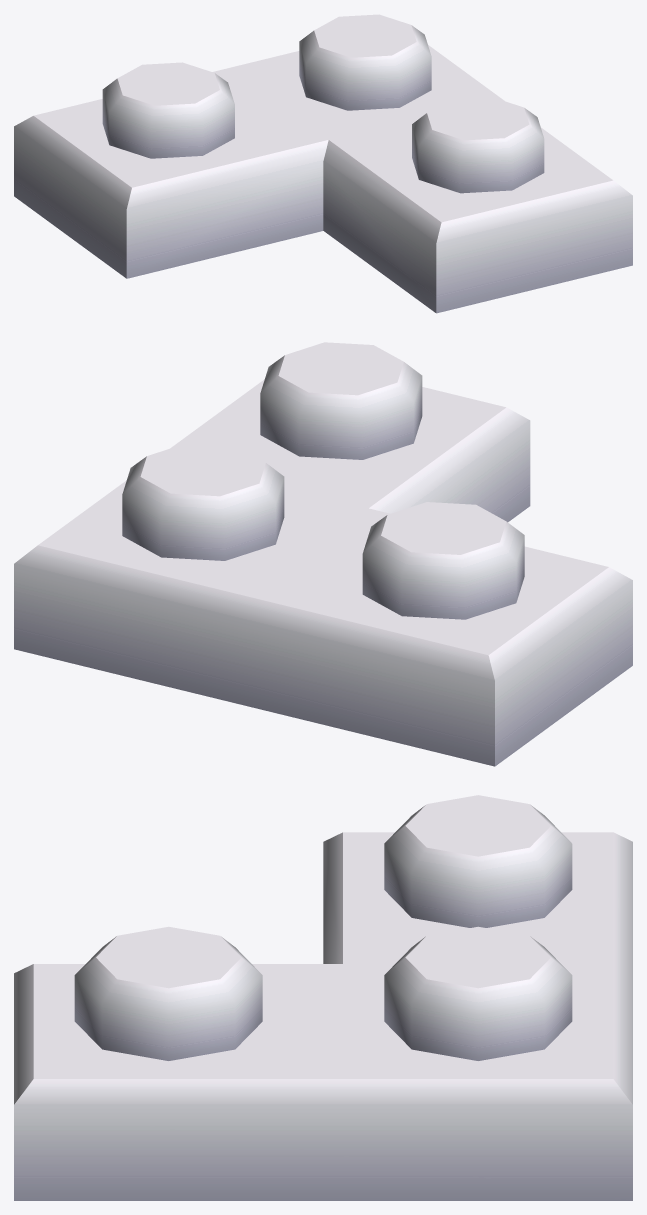
Rendered from round-hq-plate-corner.glb.
The picture shows the model from 3 angles, top to bottom: view 1: azimuth 30°, elevation 25°; view 2: azimuth 150°, elevation 25°; view 3: azimuth 270°, elevation 25°; orthographic projection. The views are drawn at different scales.
Parts seen in each view (by area): view 1: round-hq-plate-corner; view 2: round-hq-plate-corner; view 3: round-hq-plate-corner.
Part boxes in pixels (left/top/right/bottom): round-hq-plate-corner: left=14, top=14, right=632, bottom=313; round-hq-plate-corner: left=14, top=342, right=632, bottom=766; round-hq-plate-corner: left=14, top=795, right=632, bottom=1200.
Bounding box in the file's own units: 0.159 × 0.05 × 0.158.
1 material, 1 textured.
